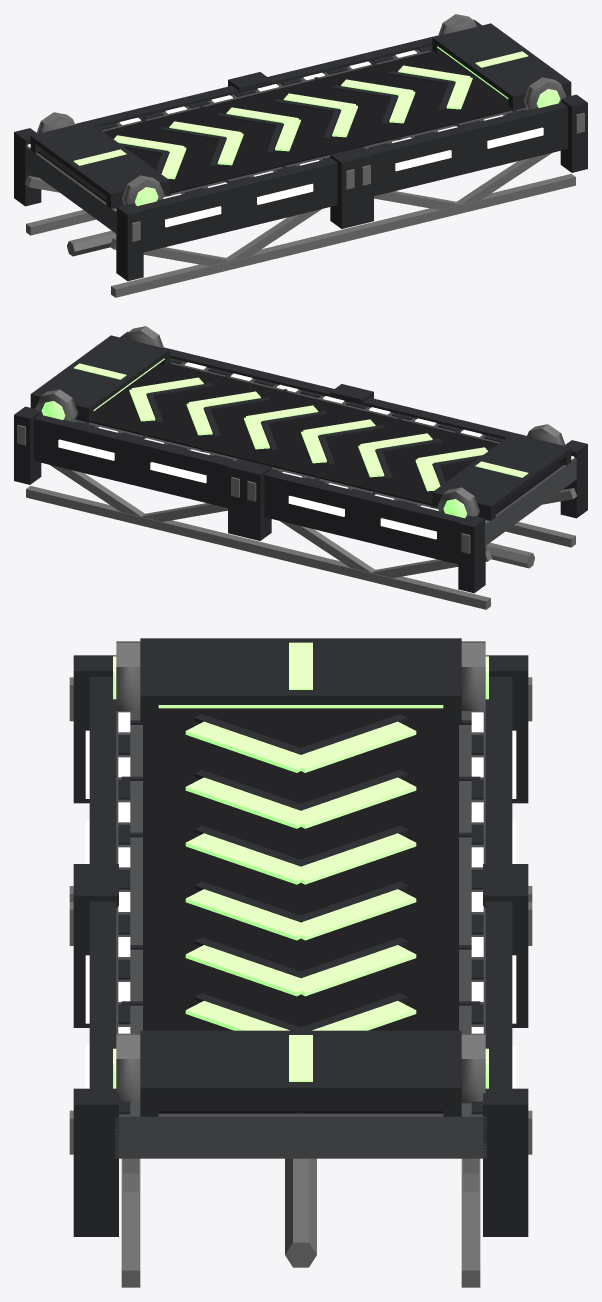
File: Deck_Conveyor_v3_8.glb
3 renders of one model, top to bottom at view 1: azimuth 30°, elevation 25°; view 2: azimuth 150°, elevation 25°; view 3: azimuth 270°, elevation 25°, orthographic. The views are drawn at different scales.
Visible parts, largest first — view 1: Deck_Conveyor_v3_8, Treads; view 2: Deck_Conveyor_v3_8, Treads; view 3: Deck_Conveyor_v3_8, Treads.
Part boxes in pixels (box(x1,y1,x2,y2)): Deck_Conveyor_v3_8: box(14, 14, 587, 297); Treads: box(114, 65, 472, 179); Deck_Conveyor_v3_8: box(14, 326, 587, 609); Treads: box(129, 377, 487, 491); Deck_Conveyor_v3_8: box(69, 638, 532, 1287); Treads: box(185, 714, 416, 1030).
Size of the model in its own units: 8.05 by 1.86 by 3.48.
